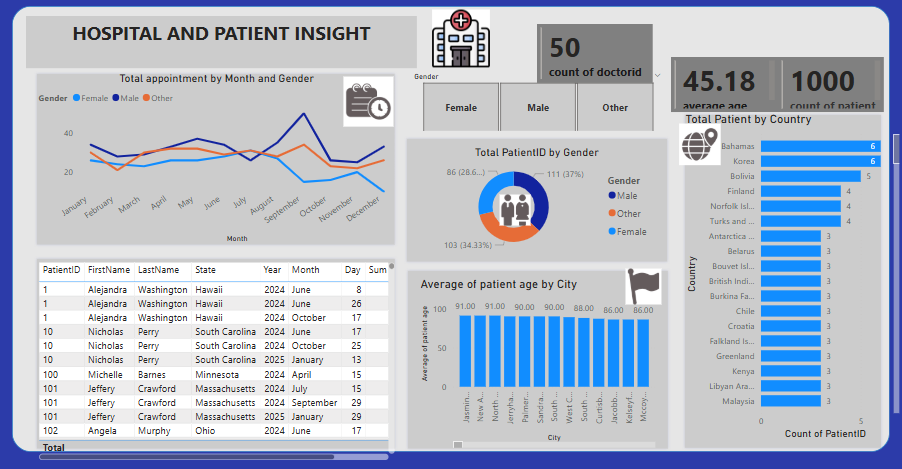

What the dashboard file says about the page in this screenshot:
{"tool":"powerbi","page":{"name":"Page 3","canvas":[1280,720],"ordinal":2},"visuals":[{"type":"shape","box":[17,59.5,1244.4,632.1],"z":0},{"type":"shape","box":[28.6,151.4,535.7,250],"z":1000},{"type":"shape","box":[572.9,242.9,375.7,182.9],"z":2000},{"type":"shape","box":[572.9,430,377.1,248.6],"z":3000},{"type":"shape","box":[950,210,302.9,468.6],"z":4000},{"type":"shape","box":[48.7,413.2,515.7,277.2],"z":5000},{"type":"lineChart","title":"Total appointment by Month and Gender","fields":{"Category":["appointments.AppointmentDate.Variation.Date Hierarchy.Month"],"Y":["appointments.AppointmentID"],"Series":["patients.Gender"]},"box":[38.6,151.4,525.7,248.6],"z":6000},{"type":"donutChart","title":"Total PatientID by Gender","fields":{"Y":["patients.PatientID"],"Category":["patients.Gender"]},"box":[589.3,256.7,342.8,157],"z":7000},{"type":"tableEx","fields":{"Values":["appointments.PatientID","patients.FirstName","patients.LastName","patients.State","appointments.AppointmentDate.Variation.Date Hierarchy.Year","appointments.AppointmentDate.Variation.Date Hierarchy.Month","appointments.AppointmentDate.Variation.Date Hierarchy.Day","patients.patient age"]},"box":[28.6,418.6,535.7,260],"z":8000},{"type":"clusteredColumnChart","fields":{"Category":["patients.City"],"Y":["patients.patient age"]},"box":[591,444.1,342.8,246.5],"z":9000},{"type":"barChart","title":"Total Patient by Country","fields":{"Y":["patients.PatientID"],"Category":["patients.Country"]},"box":[967.1,210,312.9,468.6],"z":10000},{"type":"multiRowCard","fields":{"Values":["patients.average age"]},"box":[950,92.9,151.4,104.3],"z":11000},{"type":"multiRowCard","fields":{"Values":["appointments.count of patient"]},"box":[1101.4,92.9,151.4,104.3],"z":12000},{"type":"textbox","box":[28.6,74.3,535.7,74.3],"z":14000},{"type":"slicer","fields":{"Values":["patients.Gender"]},"box":[572.9,145.7,375.7,97.1],"z":15000},{"type":"image","box":[625,321.7,209.8,53.9],"z":16000},{"type":"image","box":[490.4,59.5,326,92.1],"z":17000},{"type":"image","box":[372.8,154.5,299.1,80.8],"z":18000},{"type":"image","box":[762.5,426.6,299.1,60.9],"z":19000},{"type":"image","box":[937.1,241.4,97.1,68.6],"z":20000}]}

Visuals, with their boxes on the page's 1280x720 design canvas (x1, y1, x2, y2). These are canvas units, not pixel positions in the 902x469 screenshot, which may show the page scaled, cropped or inside an application window:
shape: l=17, t=60, r=1261, b=692
shape: l=29, t=151, r=564, b=401
shape: l=573, t=243, r=949, b=426
shape: l=573, t=430, r=950, b=679
shape: l=950, t=210, r=1253, b=679
shape: l=49, t=413, r=564, b=690
"Total appointment by Month and Gender" lineChart: l=39, t=151, r=564, b=400
"Total PatientID by Gender" donutChart: l=589, t=257, r=932, b=414
tableEx - appointments.PatientID x patients.FirstName: l=29, t=419, r=564, b=679
clusteredColumnChart - patients.City x patients.patient age: l=591, t=444, r=934, b=691
"Total Patient by Country" barChart: l=967, t=210, r=1280, b=679
multiRowCard - patients.average age: l=950, t=93, r=1101, b=197
multiRowCard - appointments.count of patient: l=1101, t=93, r=1253, b=197
textbox: l=29, t=74, r=564, b=149
slicer - patients.Gender: l=573, t=146, r=949, b=243
image: l=625, t=322, r=835, b=376
image: l=490, t=60, r=816, b=152
image: l=373, t=154, r=672, b=235
image: l=762, t=427, r=1062, b=488
image: l=937, t=241, r=1034, b=310
